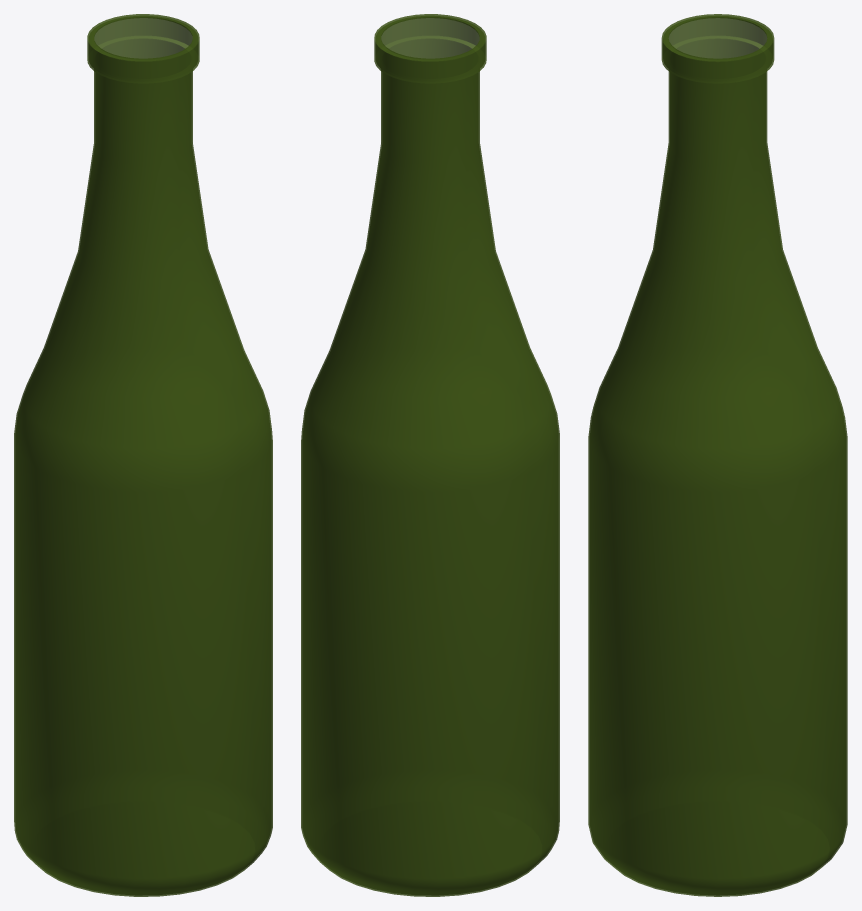
The model's file is Bouteille.fbx.
3 renders of one model, left to right at view 1: azimuth 30°, elevation 25°; view 2: azimuth 150°, elevation 25°; view 3: azimuth 270°, elevation 25°, orthographic.
Visible parts, largest first — view 1: Cylinder; view 2: Cylinder; view 3: Cylinder.
Boxes of the visible parts, x1,y1,x2,y2 form: Cylinder: (14,14,272,896); Cylinder: (301,14,559,896); Cylinder: (588,14,847,896).
Bounding box in the file's own units: 200 × 690 × 200.
